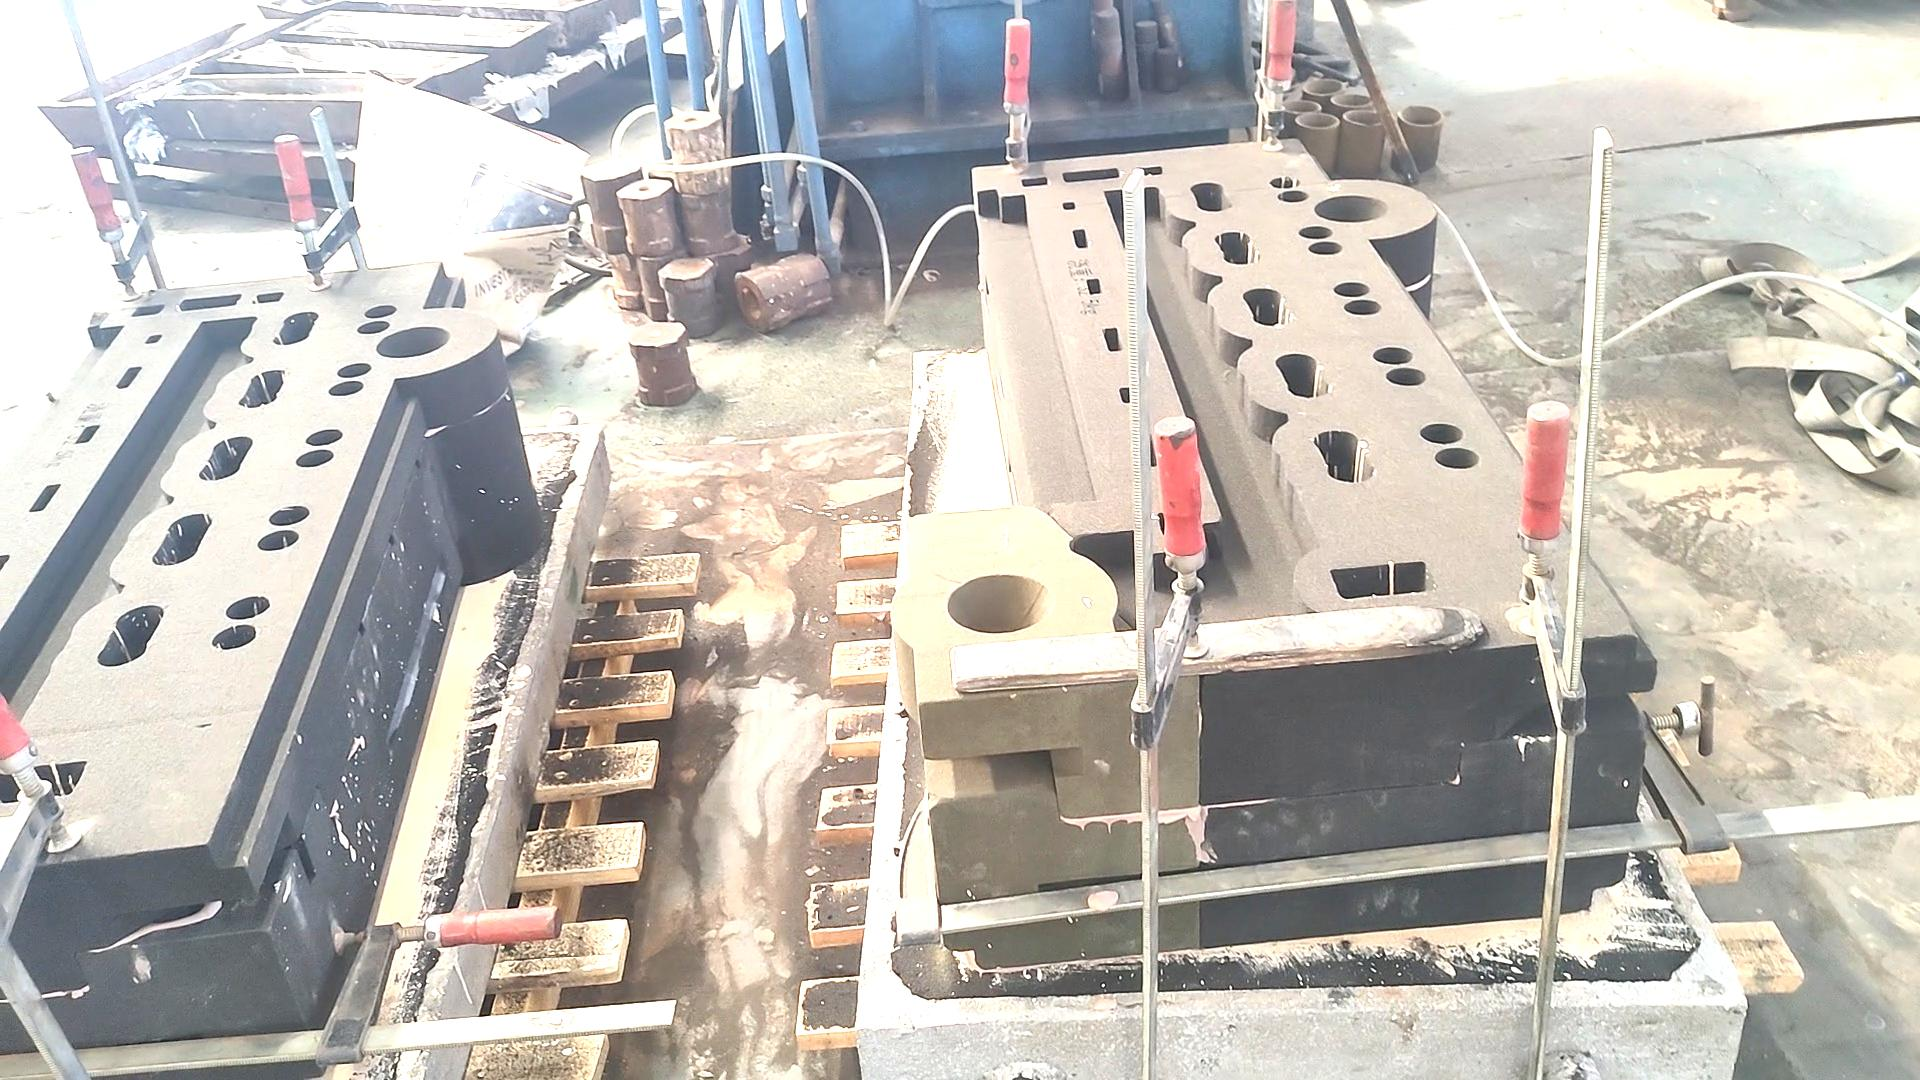pouring hole: (948, 574, 1050, 634), (376, 327, 450, 357), (1316, 195, 1390, 223), (1396, 103, 1445, 127), (1294, 109, 1338, 129), (1341, 108, 1387, 127), (1332, 90, 1375, 108), (1302, 76, 1344, 94), (1280, 98, 1321, 113)
